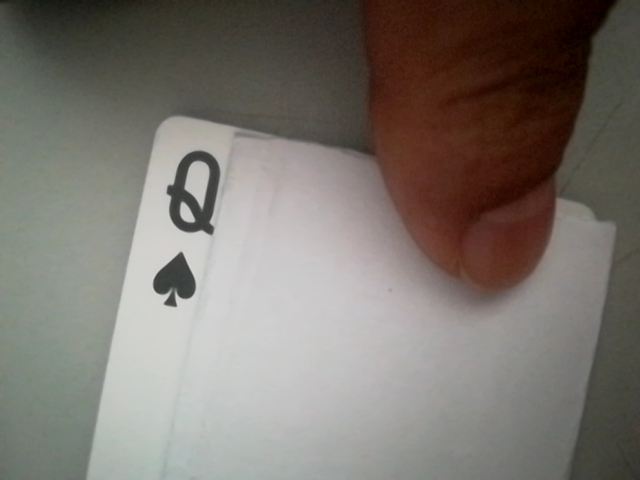ht q: (140, 134, 237, 316)
